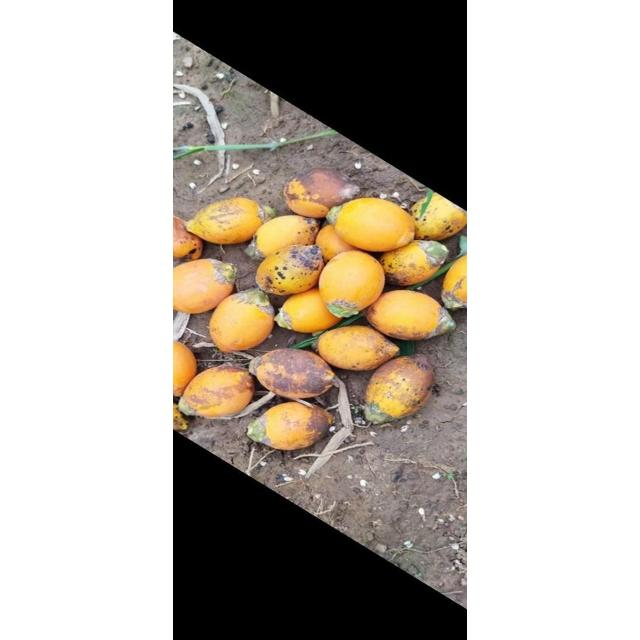good: (364, 356, 434, 422), (365, 290, 453, 340), (335, 198, 415, 252), (246, 404, 334, 451), (210, 290, 274, 350), (282, 168, 360, 216), (185, 198, 265, 244), (255, 244, 322, 296), (174, 258, 236, 314), (378, 240, 448, 286), (327, 253, 383, 309), (260, 353, 334, 395), (277, 289, 343, 333), (254, 216, 320, 256), (410, 192, 464, 240), (316, 225, 358, 263), (173, 340, 197, 396), (174, 213, 202, 261), (442, 252, 466, 308)
